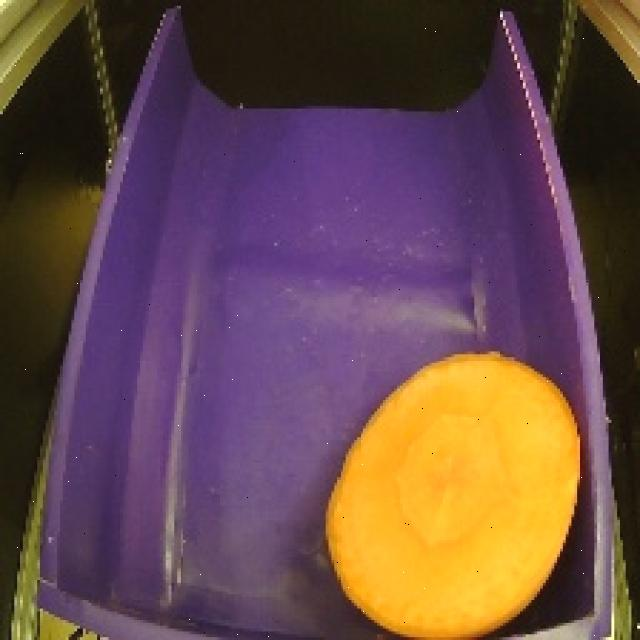carrots: (317, 343, 588, 640)
